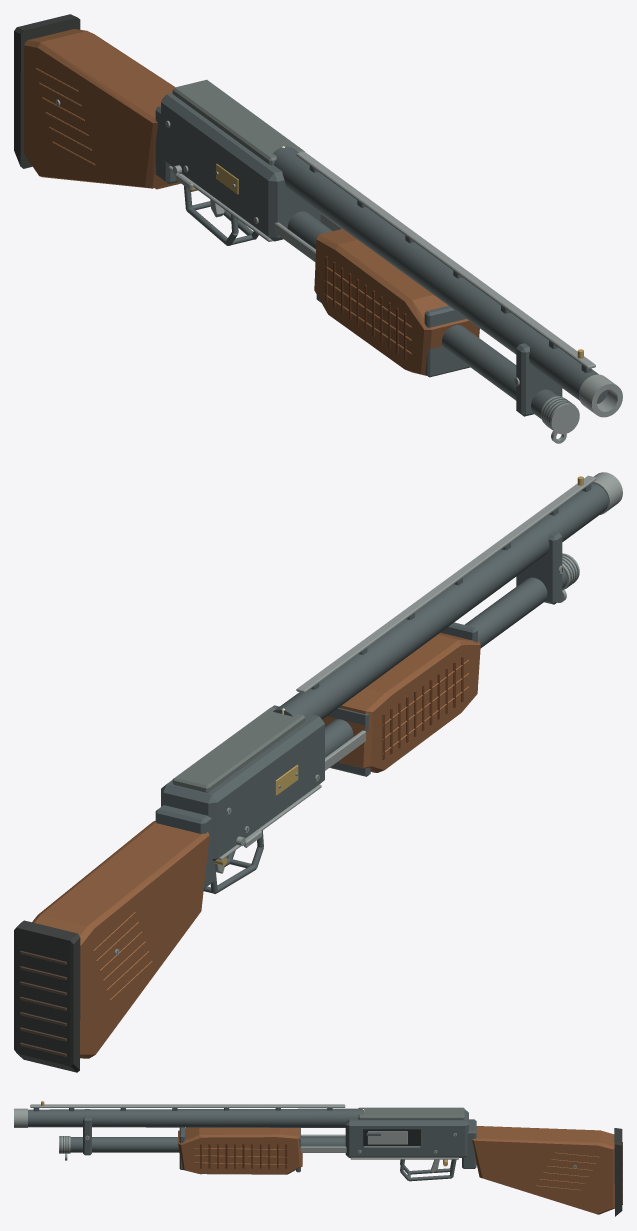
File: shotgun.glb
3 views of the same model, one above another, from view 1: azimuth 30°, elevation 25°; view 2: azimuth 150°, elevation 25°; view 3: azimuth 270°, elevation 25° (orthographic). The views are drawn at different scales.
Parts seen in each view (by area): view 1: Walnut buttstock, Barrel, Pump, Receiver, Receiver top rib, Magazine, Ventilated barrel rib, Butt pad, Barrel clamp, Pump grooves, Pump front band, Muzzle crown (+4 smaller); view 2: Walnut buttstock, Barrel, Pump, Receiver, Butt pad, Receiver top rib, Magazine, Ventilated barrel rib, Barrel clamp, Pump grooves, Stock socket, Butt pad tread; view 3: Walnut buttstock, Barrel, Pump, Receiver, Magazine, Receiver top rib, Ventilated barrel rib, Butt pad, Pump grooves, Ejection port, Bolt, Stock socket (+9 smaller).
Part boxes in pixels (x1,y1,x2,y2): Walnut buttstock: (24,29,178,188); Barrel: (273,146,607,403); Pump: (314,229,479,375); Receiver: (161,93,320,241); Receiver top rib: (172,79,304,165); Magazine: (287,211,558,418); Ventilated barrel rib: (296,151,595,368); Butt pad: (14,14,80,168); Barrel clamp: (516,343,562,416); Pump grooves: (325,256,406,360); Pump front band: (424,305,470,377); Muzzle crown: (579,374,622,417); Walnut buttstock: (32,820,209,1058); Barrel: (273,483,608,719); Pump: (322,632,480,772); Receiver: (161,705,324,860); Butt pad: (14,920,80,1072); Receiver top rib: (172,707,305,792); Magazine: (325,570,567,757); Ventilated barrel rib: (296,475,595,693); Barrel clamp: (516,531,562,604); Pump grooves: (382,656,463,759); Stock socket: (155,805,215,888); Butt pad tread: (20,951,66,1056); Walnut buttstock: (472,1126,614,1214); Barrel: (28,1108,363,1127); Pump: (178,1127,302,1174); Receiver: (345,1109,468,1157); Magazine: (70,1137,345,1152); Receiver top rib: (358,1107,464,1119); Ventilated barrel rib: (30,1104,345,1107); Butt pad: (614,1128,622,1216); Pump grooves: (200,1143,287,1168); Ejection port: (363,1129,420,1146); Bolt: (367,1131,407,1144); Stock socket: (462,1119,476,1168).
Bounding box in the file's own units: 0.0704 × 0.196 × 1.
